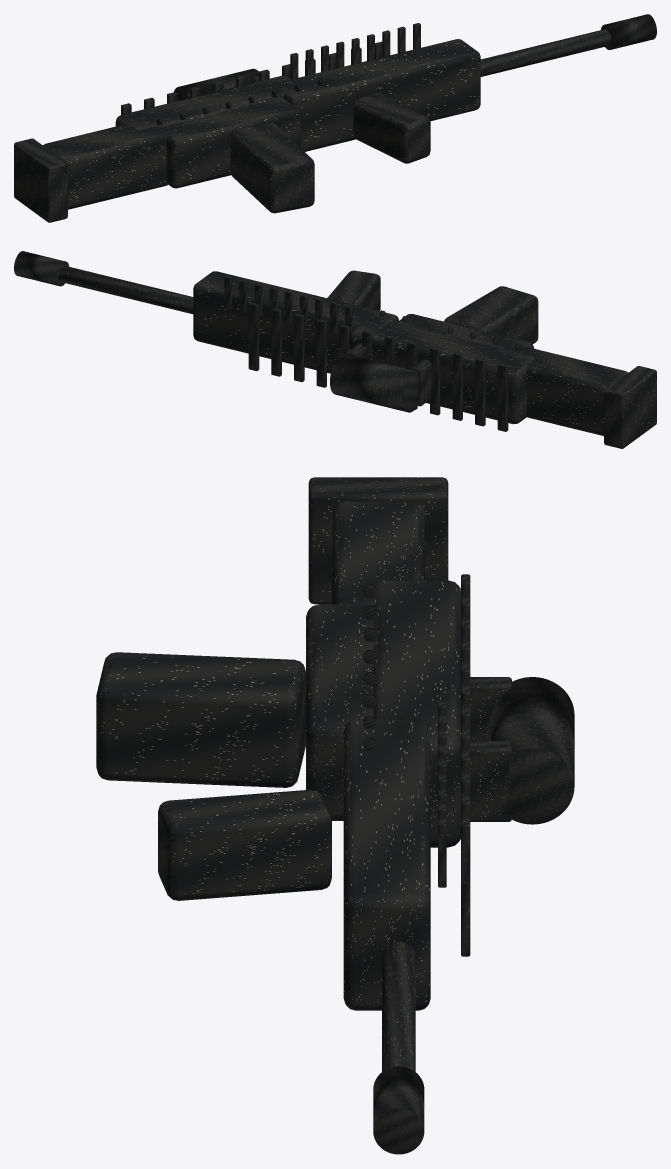
3 views of the same model, one above another, from view 1: azimuth 30°, elevation 25°; view 2: azimuth 150°, elevation 25°; view 3: azimuth 270°, elevation 25° (orthographic). The views are drawn at different scales.
Parts seen in each view (by area): view 1: freefloat_rail_pbr, folding_stock_pbr, receiver_lower_pbr, box_magazine_pbr, angled_foregrip_pbr, rubber_buttpad_pbr, receiver_upper_pbr, cold_hammer_barrel_pbr, ported_muzzle_device_pbr, optic_body_pbr; view 2: freefloat_rail_pbr, receiver_upper_pbr, folding_stock_pbr, optic_body_pbr, rubber_buttpad_pbr, box_magazine_pbr, cold_hammer_barrel_pbr, receiver_lower_pbr, angled_foregrip_pbr, ported_muzzle_device_pbr, top_rail_tooth_pbr_11, top_rail_tooth_pbr_00 (+9 smaller); view 3: box_magazine_pbr, freefloat_rail_pbr, angled_foregrip_pbr, receiver_upper_pbr, receiver_lower_pbr, optic_body_pbr, folding_stock_pbr, rubber_buttpad_pbr, cold_hammer_barrel_pbr, ported_muzzle_device_pbr, optic_mount_front_pbr, optic_mount_rear_pbr (+1 smaller).
Part boxes in pixels (x1,y1,x2,y2): freefloat_rail_pbr: (274,39,480,151); folding_stock_pbr: (43,124,168,209); receiver_lower_pbr: (161,98,300,188); box_magazine_pbr: (230,122,314,213); angled_foregrip_pbr: (353,92,430,163); rubber_buttpad_pbr: (14,138,67,222); receiver_upper_pbr: (115,75,290,129); cold_hammer_barrel_pbr: (480,29,611,76); ported_muzzle_device_pbr: (601,14,656,49); optic_body_pbr: (174,68,258,100); freefloat_rail_pbr: (193,271,398,373); receiver_upper_pbr: (349,322,534,424); folding_stock_pbr: (516,347,628,435); optic_body_pbr: (330,353,418,412); rubber_buttpad_pbr: (604,366,656,448); box_magazine_pbr: (444,286,538,344); cold_hammer_barrel_pbr: (59,265,193,314); receiver_lower_pbr: (396,314,533,352); angled_foregrip_pbr: (327,270,380,310); ported_muzzle_device_pbr: (14,251,69,286); top_rail_tooth_pbr_11: (248,302,259,371); top_rail_tooth_pbr_00: (497,363,508,431); box_magazine_pbr: (96,652,305,787); freefloat_rail_pbr: (343,719,430,1010); angled_foregrip_pbr: (158,789,331,900); receiver_upper_pbr: (373,580,460,847); receiver_lower_pbr: (306,604,373,820); optic_body_pbr: (490,677,574,824); folding_stock_pbr: (332,501,424,605); rubber_buttpad_pbr: (308,477,448,604); cold_hammer_barrel_pbr: (382,941,415,1071); ported_muzzle_device_pbr: (373,1066,424,1154); optic_mount_front_pbr: (470,741,511,821); optic_mount_rear_pbr: (470,677,511,740).
Bounding box in the file's own units: 4.89 × 0.615 × 1.65.
1 material, 1 textured.
